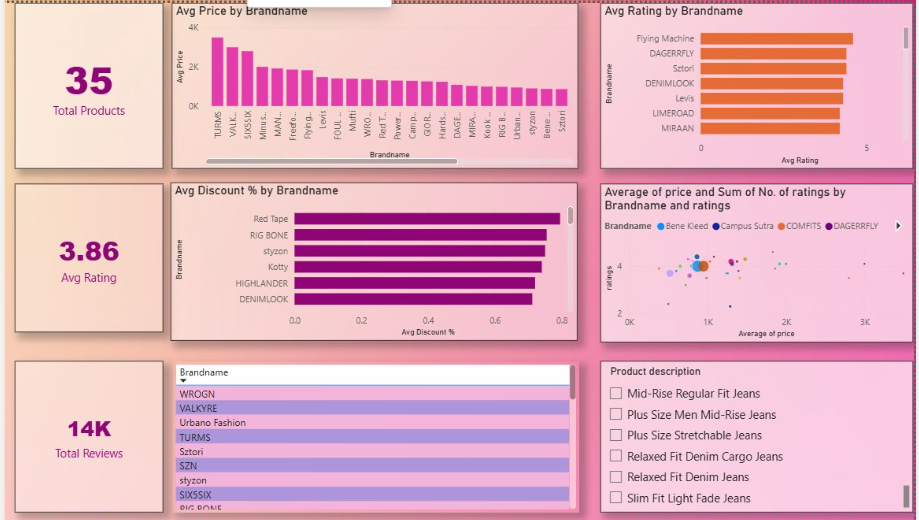

Layout of this report page (visuals, bound fields, positions):
{"tool":"powerbi","page":{"name":"Page 1","canvas":[1280,720],"ordinal":0},"visuals":[{"type":"card","fields":{"Values":["myntra_dataset_ByScraping.Total Products"]},"box":[41,213.1,173.8,162.3],"z":0},{"type":"card","fields":{"Values":["myntra_dataset_ByScraping.Avg Rating"]},"box":[41,386.9,185.2,152.5],"z":1000},{"type":"card","fields":{"Values":["myntra_dataset_ByScraping.Total Reviews"]},"box":[41,554.1,185.2,152.5],"z":2000},{"type":"barChart","fields":{"Category":["myntra_dataset_ByScraping.Brandname"],"Y":["myntra_dataset_ByScraping.Avg Rating"]},"box":[846,0,434,230],"z":3000},{"type":"clusteredColumnChart","fields":{"Category":["myntra_dataset_ByScraping.Brandname"],"Y":["myntra_dataset_ByScraping.Avg Price"]},"box":[250,0,564,230],"z":4000},{"type":"barChart","fields":{"Category":["myntra_dataset_ByScraping.Brandname"],"Y":["myntra_dataset_ByScraping.Avg Discount %"]},"box":[249.1,249.1,564.9,219.3],"z":5000},{"type":"scatterChart","fields":{"Size":["Sum(myntra_dataset_ByScraping.No. of ratings)"],"X":["Avg(myntra_dataset_ByScraping.price)"],"Y":["myntra_dataset_ByScraping.ratings"],"Series":["myntra_dataset_ByScraping.Brandname"]},"box":[846,250,434,220],"z":6000},{"type":"tableEx","fields":{"Values":["myntra_dataset_ByScraping.Brandname"]},"box":[250,496,566,210],"z":7000},{"type":"slicer","fields":{"Values":["myntra_dataset_ByScraping.Product description"]},"box":[846,496,434,210],"z":8000}]}

Visuals, with their boxes in screenshot pixels (x1, y1, x2, y2), scaled from the page's 1280x720 canvas onto the 919x520 screenshot:
card - myntra_dataset_ByScraping.Total Products: <box>29,154,154,271</box>
card - myntra_dataset_ByScraping.Avg Rating: <box>29,279,162,390</box>
card - myntra_dataset_ByScraping.Total Reviews: <box>29,400,162,510</box>
barChart - myntra_dataset_ByScraping.Brandname x myntra_dataset_ByScraping.Avg Rating: <box>607,0,918,166</box>
clusteredColumnChart - myntra_dataset_ByScraping.Brandname x myntra_dataset_ByScraping.Avg Price: <box>179,0,584,166</box>
barChart - myntra_dataset_ByScraping.Brandname x myntra_dataset_ByScraping.Avg Discount %: <box>179,180,584,338</box>
scatterChart - Sum(myntra_dataset_ByScraping.No. of ratings) x Avg(myntra_dataset_ByScraping.price): <box>607,181,918,339</box>
tableEx - myntra_dataset_ByScraping.Brandname: <box>179,358,586,510</box>
slicer - myntra_dataset_ByScraping.Product description: <box>607,358,918,510</box>
